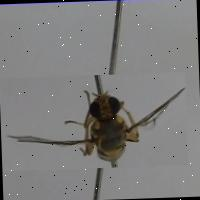Oriental-fruit-fly: (0, 71, 188, 170)
